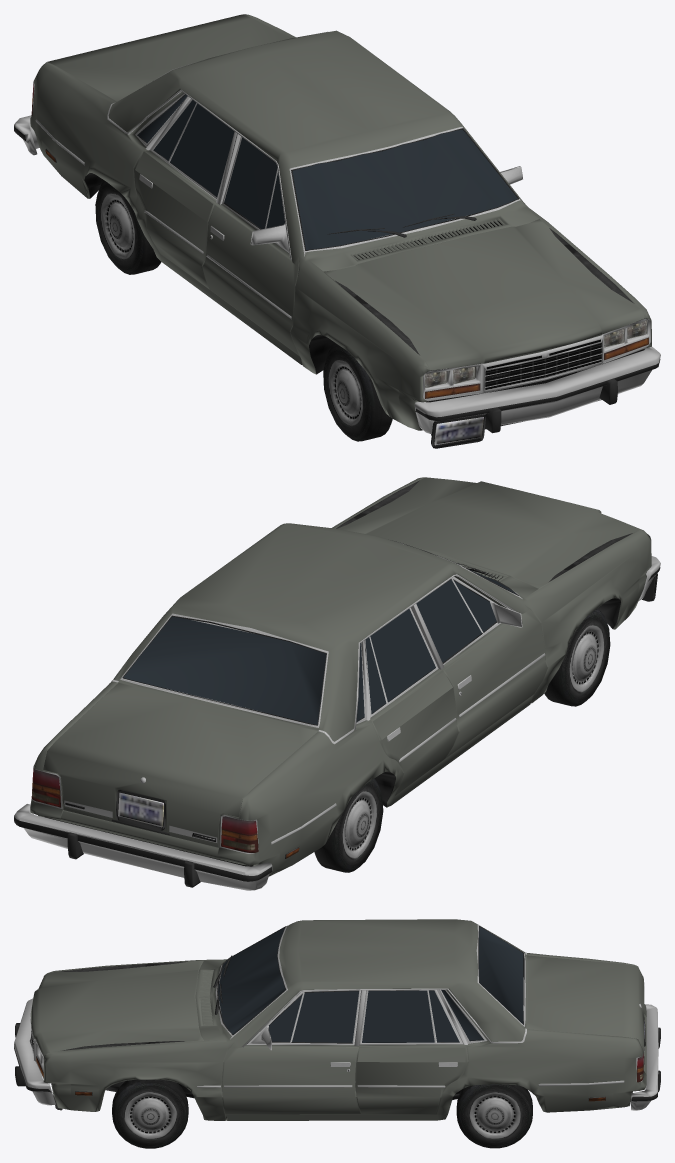
Rendered from car_sedan_80s_b.gltf.
3 renders of one model, top to bottom at view 1: azimuth 30°, elevation 25°; view 2: azimuth 150°, elevation 25°; view 3: azimuth 270°, elevation 25°, orthographic. The views are drawn at different scales.
Visible parts, largest first — view 1: car_sedan_80s_b; view 2: car_sedan_80s_b; view 3: car_sedan_80s_b.
Part boxes in pixels (bbox=[...]): car_sedan_80s_b: bbox=[14, 14, 660, 448]; car_sedan_80s_b: bbox=[14, 477, 660, 890]; car_sedan_80s_b: bbox=[14, 919, 660, 1148].
Size of the model in its own units: 1.8 by 1.32 by 4.9.
Materials: 1 (1 with a texture image).
